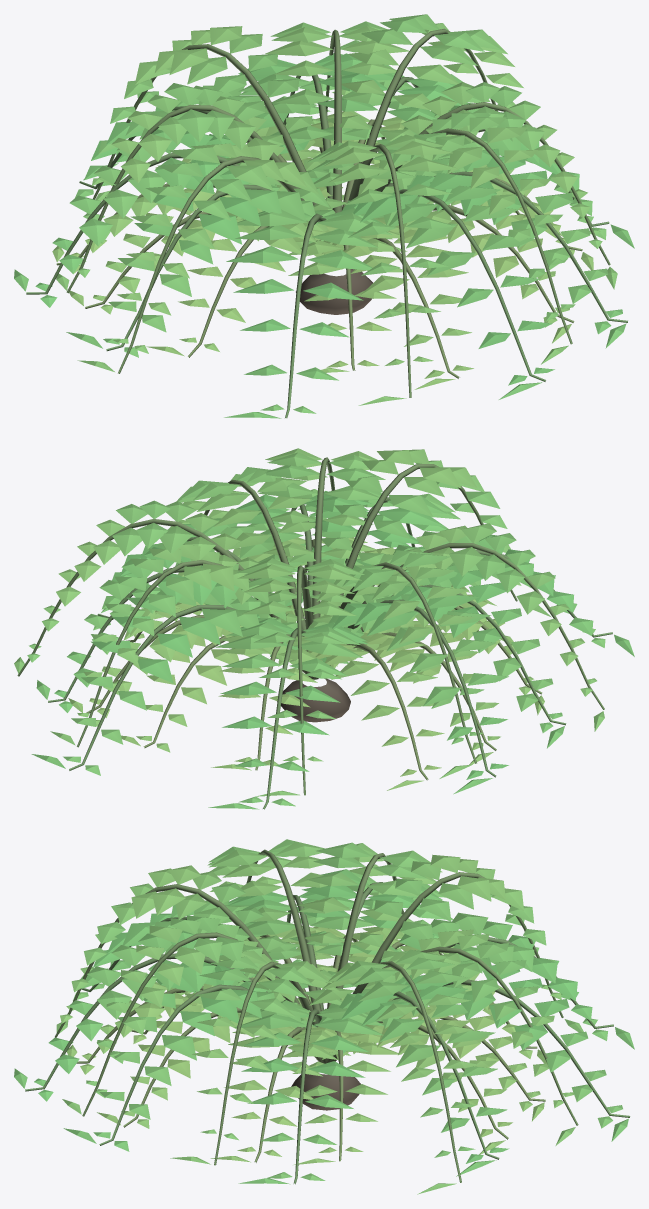
The model's file is fern-library-original-v1.glb.
3 views of the same model, one above another, from view 1: azimuth 30°, elevation 25°; view 2: azimuth 150°, elevation 25°; view 3: azimuth 270°, elevation 25° (orthographic). The views are drawn at different scales.
Parts seen in each view (by area): view 1: fern-attached-leaflets (×3), fern-load-bearing-structure (×3); view 2: fern-attached-leaflets (×3), fern-load-bearing-structure (×3); view 3: fern-attached-leaflets (×3), fern-load-bearing-structure (×3).
Boxes of the visible parts, left/top/right/bottom form: fern-attached-leaflets (×3): left=14, top=14, right=634, bottom=418; fern-load-bearing-structure (×3): left=26, top=28, right=627, bottom=418; fern-attached-leaflets (×3): left=14, top=448, right=634, bottom=809; fern-load-bearing-structure (×3): left=17, top=457, right=612, bottom=809; fern-attached-leaflets (×3): left=14, top=839, right=634, bottom=1194; fern-load-bearing-structure (×3): left=25, top=849, right=630, bottom=1184.
Size of the model in its own units: 2.9 by 1.1 by 3.05.
